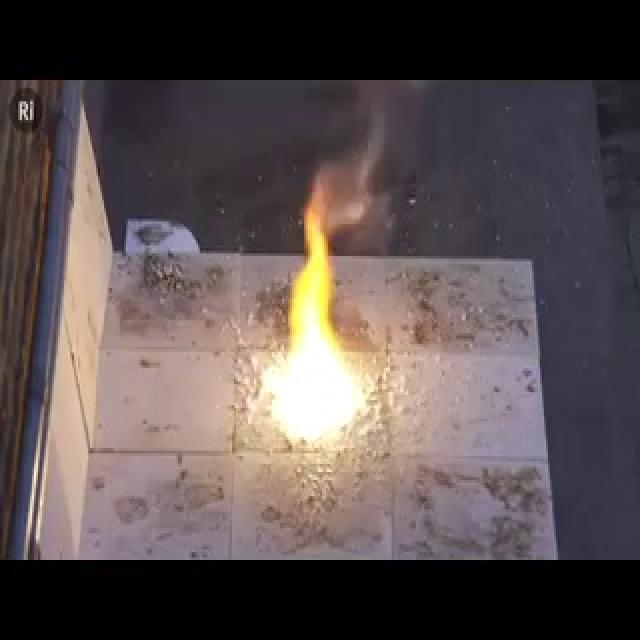fire: (255, 214, 379, 456)
